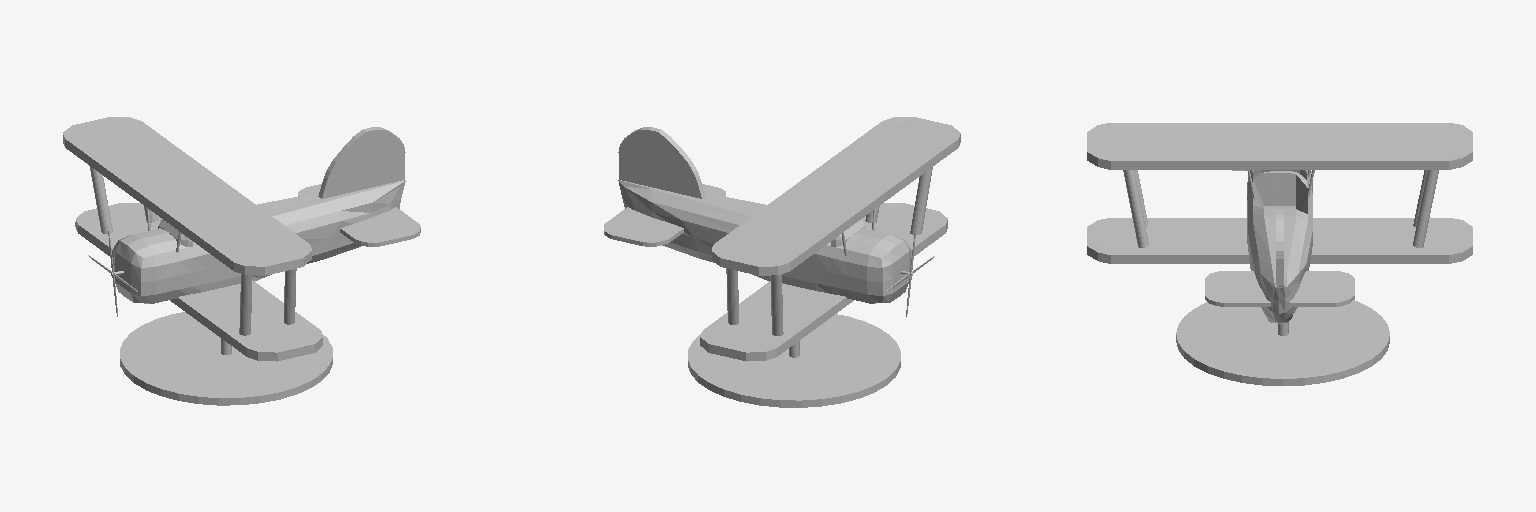
File: biplane_fla_mounted.obj
3 renders of one model, left to right at view 1: azimuth 30°, elevation 25°; view 2: azimuth 150°, elevation 25°; view 3: azimuth 270°, elevation 25°, orthographic.
Parts seen in each view (by area): view 1: Cylinder.001; view 2: Cylinder.001; view 3: Cylinder.001.
Boxes of the visible parts, <box> form: Cylinder.001: <box>63,117,420,405</box>; Cylinder.001: <box>604,117,960,407</box>; Cylinder.001: <box>1087,123,1472,385</box>.
Size of the model in its own units: 0.5397 by 0.3451 by 0.611.